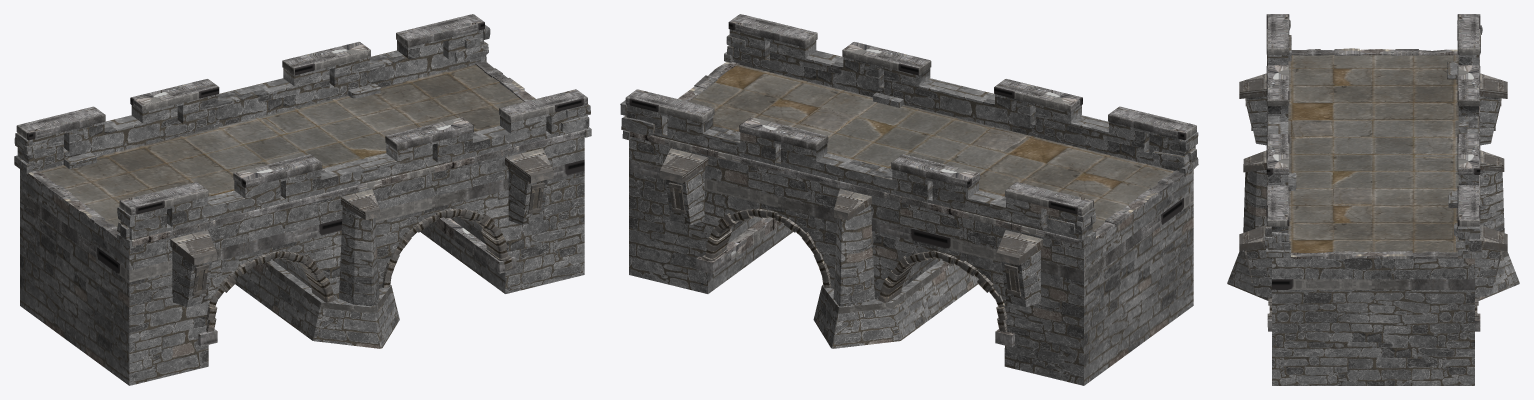
Rendered from MC_Stone_Bridge.fbx.
3 views of the same model, side by side, from view 1: azimuth 30°, elevation 25°; view 2: azimuth 150°, elevation 25°; view 3: azimuth 270°, elevation 25° (orthographic). The views are drawn at different scales.
Parts seen in each view (by area): view 1: MC_Stone_Bridge_LOD0; view 2: MC_Stone_Bridge_LOD0; view 3: MC_Stone_Bridge_LOD0.
Part boxes in pixels (box(x1,y1,x2,y2)): MC_Stone_Bridge_LOD0: box(14, 14, 591, 385); MC_Stone_Bridge_LOD0: box(620, 14, 1198, 385); MC_Stone_Bridge_LOD0: box(1227, 14, 1519, 385).
Size of what is drawn, in the model's own units: 1223 by 452 by 720.
